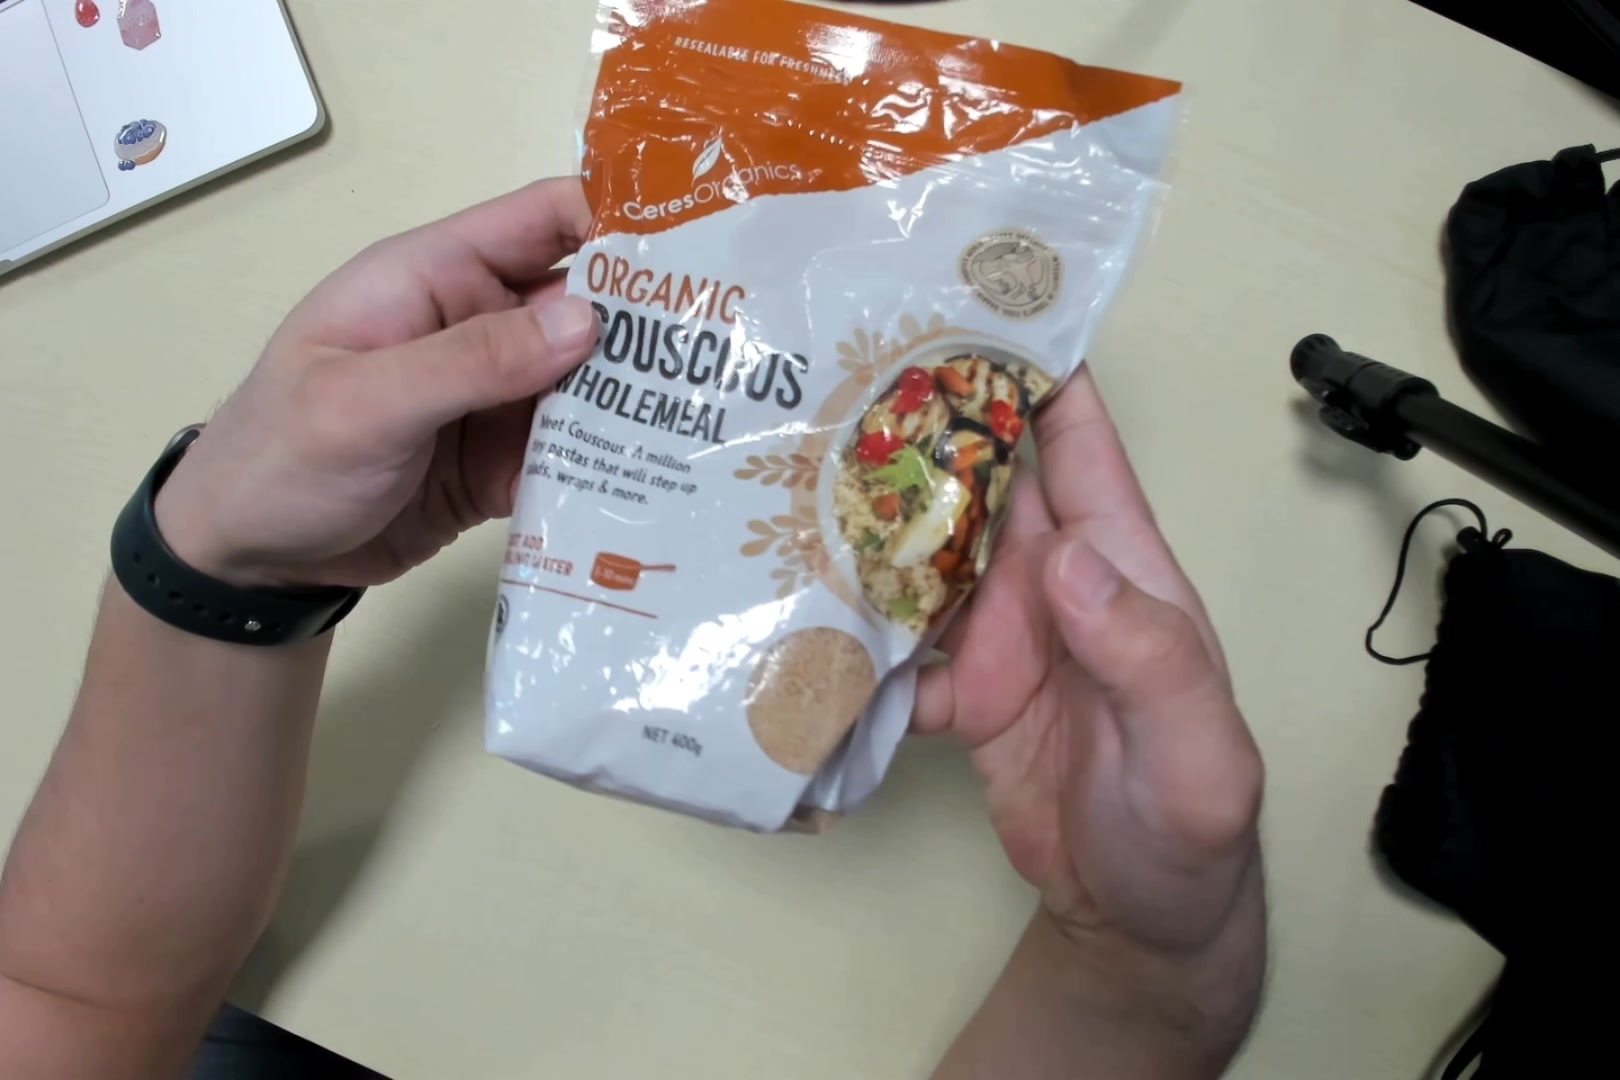Rice(BrownOthers)_300-399g_NonHalal_NonHealthy: (495, 5, 1156, 823)
